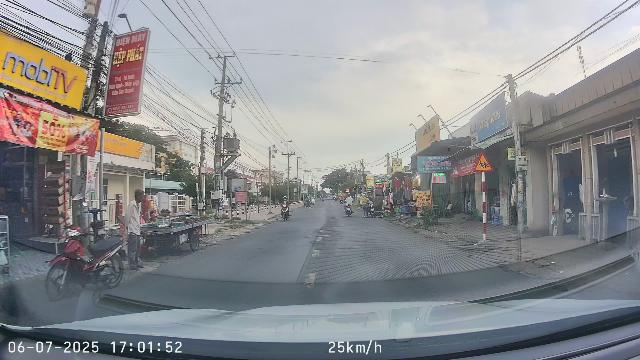225-chu-y-tre-em: (474, 152, 493, 172)
